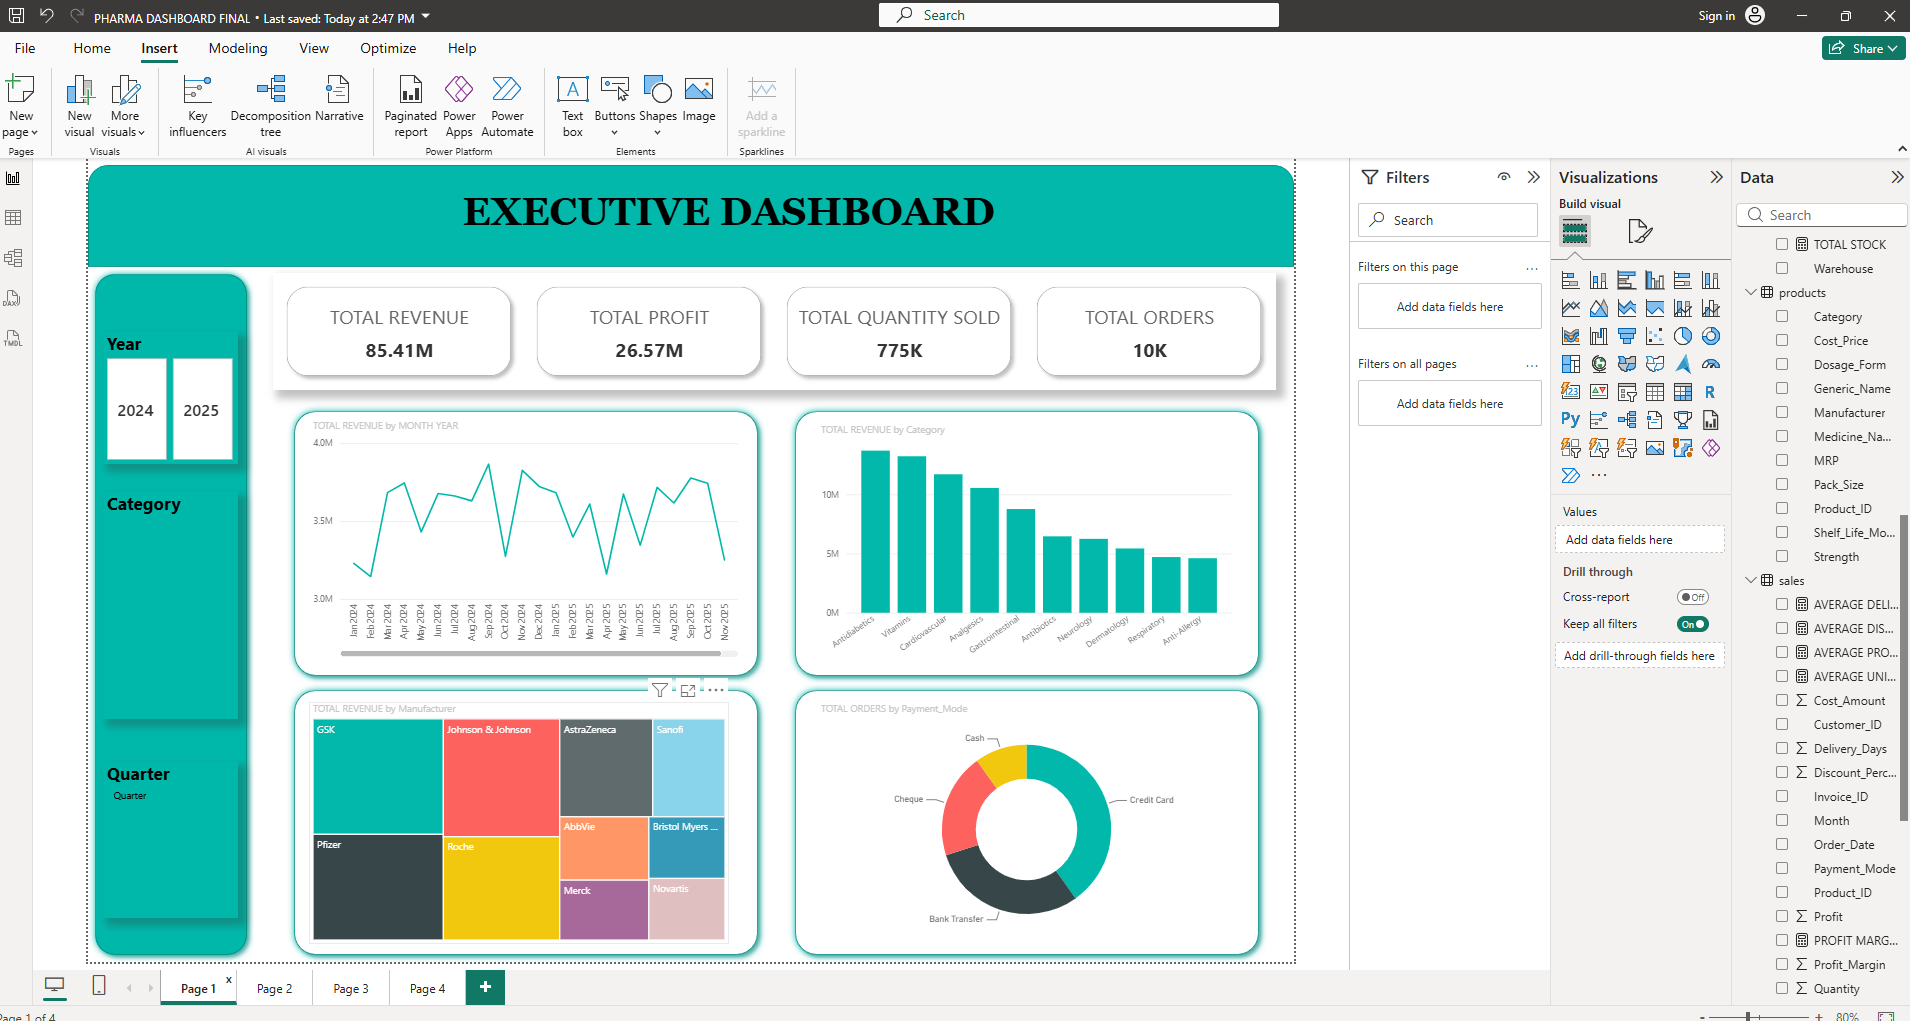

Layout of this report page (visuals, bound fields, positions):
{"tool":"powerbi","page":{"name":"Page 1","canvas":[1500,1000],"ordinal":0},"visuals":[{"type":"shape","box":[870.6,653,594.5,347],"z":0},{"type":"shape","box":[247.5,653,594.5,347],"z":500},{"type":"cardVisual","fields":{"Data":["sales.TOTAL REVENUE","sales.TOTAL PROFIT","sales.TOTAL QUANTITY SOLD","sales.TOTAL ORDERS"]},"box":[230.2,143.6,1248.1,145.9],"z":1000},{"type":"shape","box":[870.6,306,594.5,347],"z":1500},{"type":"shape","box":[0,9.1,1500,126.5],"z":2000},{"type":"shape","box":[0,135.6,206.5,864.4],"z":3000},{"type":"shape","box":[247.5,306,594.5,347],"z":4000},{"type":"lineChart","fields":{"Category":["dates.MONTH YEAR"],"Y":["sales.TOTAL REVENUE"]},"box":[274.9,324.6,538.6,301],"z":5000},{"type":"clusteredColumnChart","fields":{"Category":["products.Category"],"Y":["sales.TOTAL REVENUE"]},"box":[906.7,329.6,521.1,301],"z":6000},{"type":"treemap","fields":{"Group":["products.Manufacturer"],"Values":["sales.TOTAL REVENUE"]},"box":[274.9,676.6,522.4,301],"z":7000},{"type":"donutChart","fields":{"Category":["sales.Payment_Mode"],"Y":["sales.TOTAL ORDERS"]},"box":[906.7,676.6,521.1,301],"z":8000},{"type":"listSlicer","fields":{"Values":["products.Category"]},"box":[18.7,415.4,167.9,282.3],"z":9000},{"type":"slicer","title":"Quarter","fields":{"Values":["dates.Quarter"]},"box":[18.7,751.2,167.9,194],"z":10000},{"type":"advancedSlicerVisual","fields":{"Values":["dates.Year"]},"box":[18.7,216.4,167.9,164.2],"z":11000},{"type":"textbox","box":[258.7,34.8,1075.9,80.8],"z":12000}]}

Visuals, with their boxes on the page's 1500x1000 design canvas (x1, y1, x2, y2). These are canvas units, not pixel positions in the 1910x1021 screenshot, which may show the page scaled, cropped or inside an application window:
shape: <bbox>871, 653, 1465, 1000</bbox>
shape: <bbox>248, 653, 842, 1000</bbox>
cardVisual - sales.TOTAL REVENUE x sales.TOTAL PROFIT: <bbox>230, 144, 1478, 290</bbox>
shape: <bbox>871, 306, 1465, 653</bbox>
shape: <bbox>0, 9, 1500, 136</bbox>
shape: <bbox>0, 136, 206, 1000</bbox>
shape: <bbox>248, 306, 842, 653</bbox>
lineChart - dates.MONTH YEAR x sales.TOTAL REVENUE: <bbox>275, 325, 814, 626</bbox>
clusteredColumnChart - products.Category x sales.TOTAL REVENUE: <bbox>907, 330, 1428, 631</bbox>
treemap - products.Manufacturer x sales.TOTAL REVENUE: <bbox>275, 677, 797, 978</bbox>
donutChart - sales.Payment_Mode x sales.TOTAL ORDERS: <bbox>907, 677, 1428, 978</bbox>
listSlicer - products.Category: <bbox>19, 415, 187, 698</bbox>
"Quarter" slicer: <bbox>19, 751, 187, 945</bbox>
advancedSlicerVisual - dates.Year: <bbox>19, 216, 187, 381</bbox>
textbox: <bbox>259, 35, 1335, 116</bbox>
